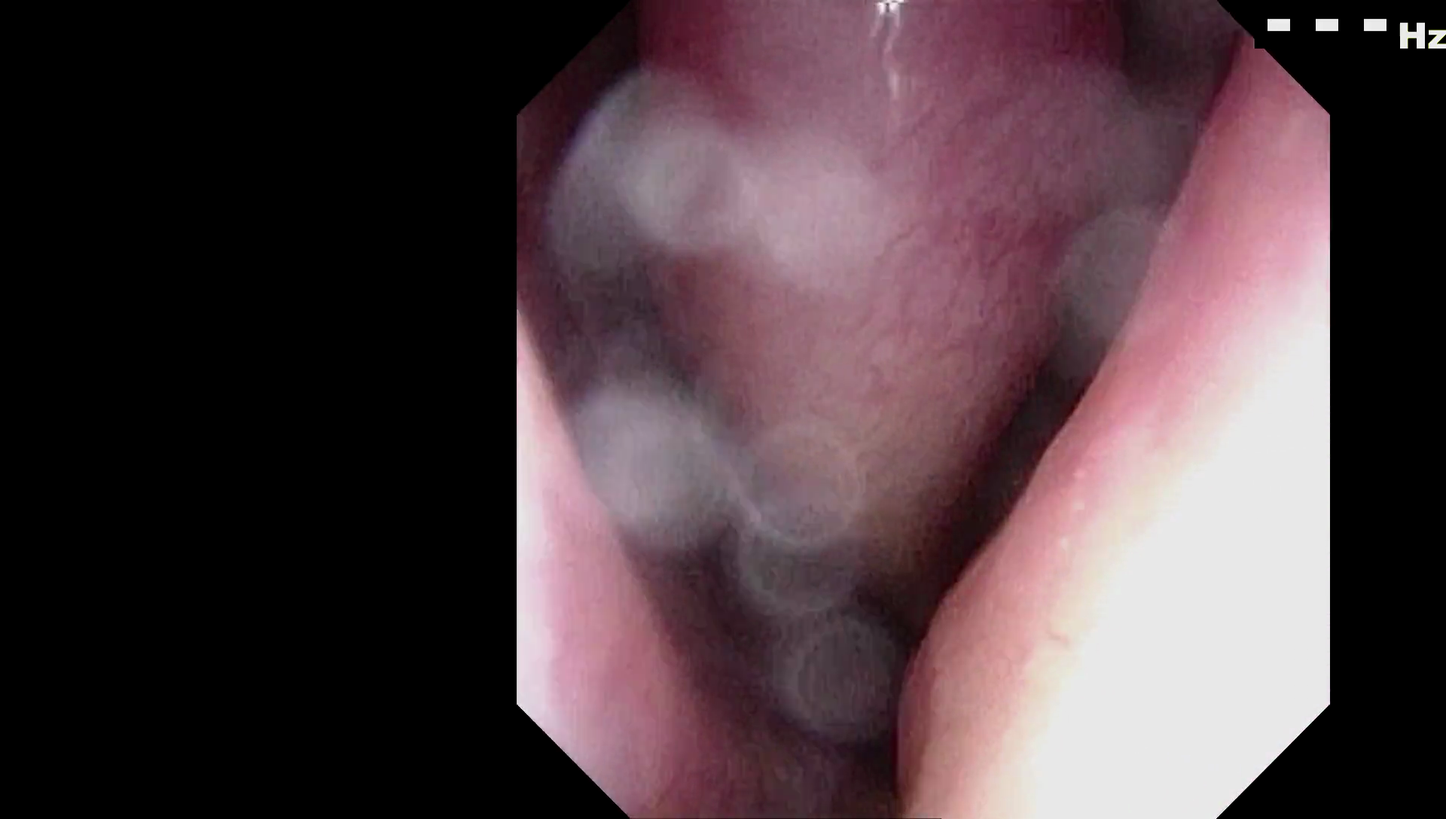close_wall: (971, 257, 1324, 811), (520, 349, 611, 700)
next: (679, 526, 958, 819), (900, 285, 1126, 625), (1075, 8, 1229, 142)
